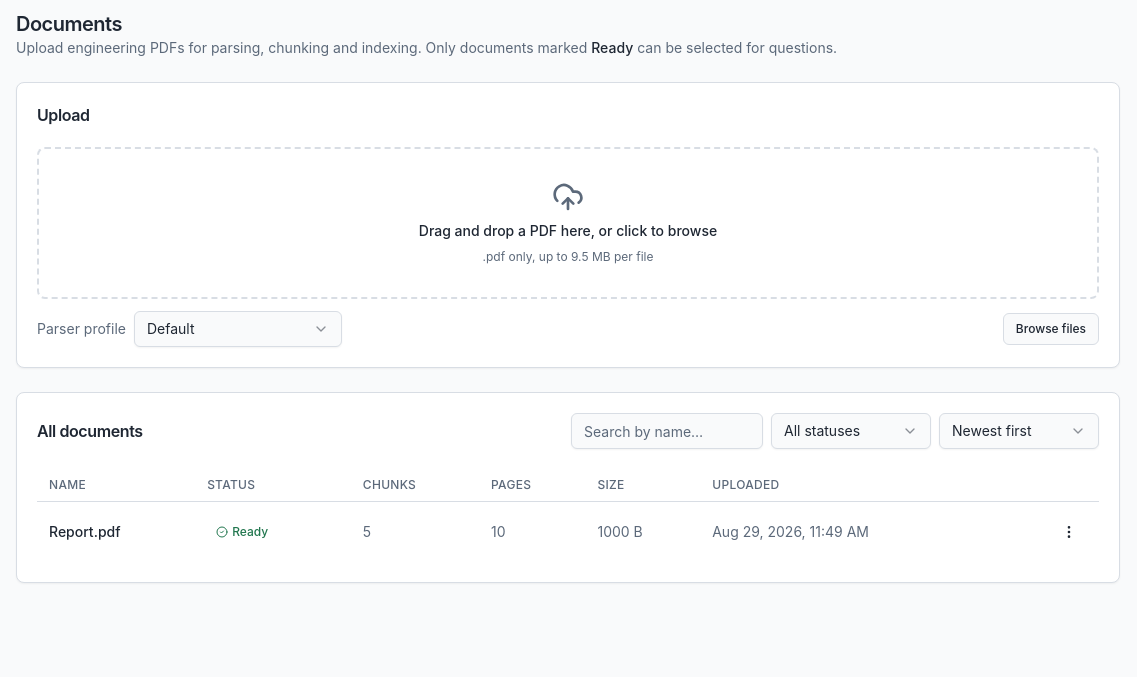
Test: DocumentsPage › filters the empty-vs-no-match message once a search excludes everything
Expected: the text "Report.pdf" is shown, [49, 523, 120, 540]
Type "no-such-file" into the field named "Search documents by name". click: (667, 431)
box: [571, 413, 763, 449]
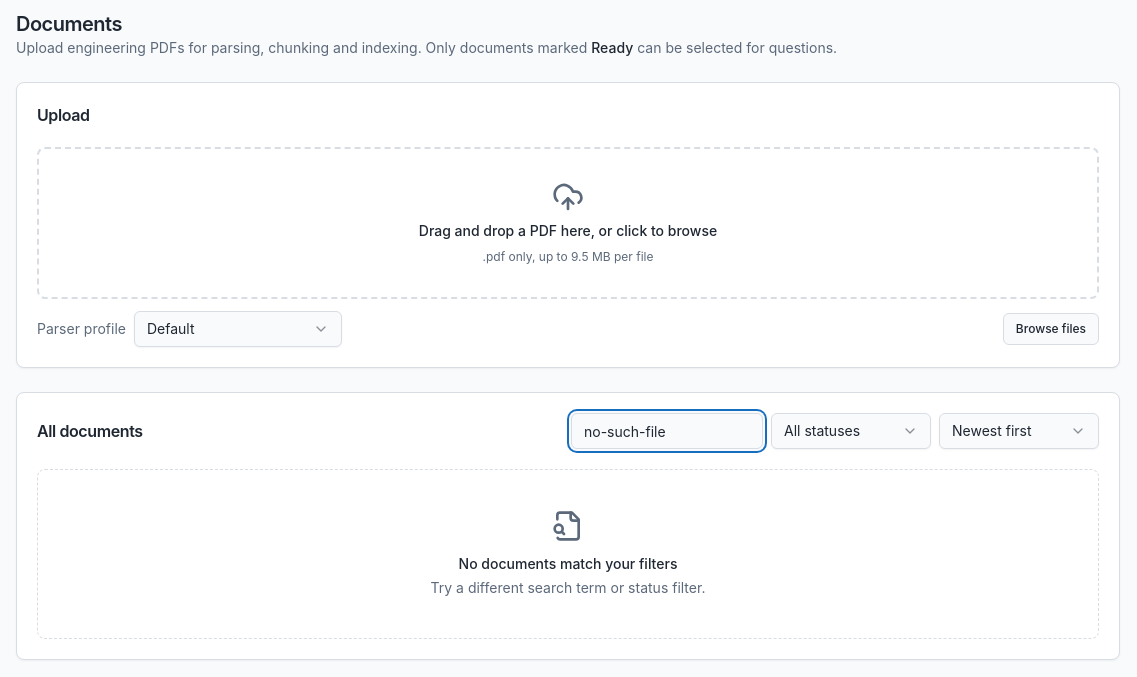
Now the text "No documents match your filters" is shown, box [459, 555, 678, 572]
